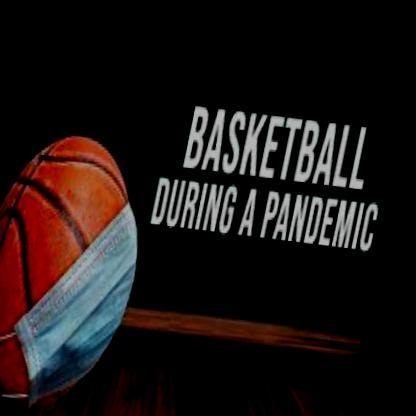basketball: (0, 126, 159, 416)
